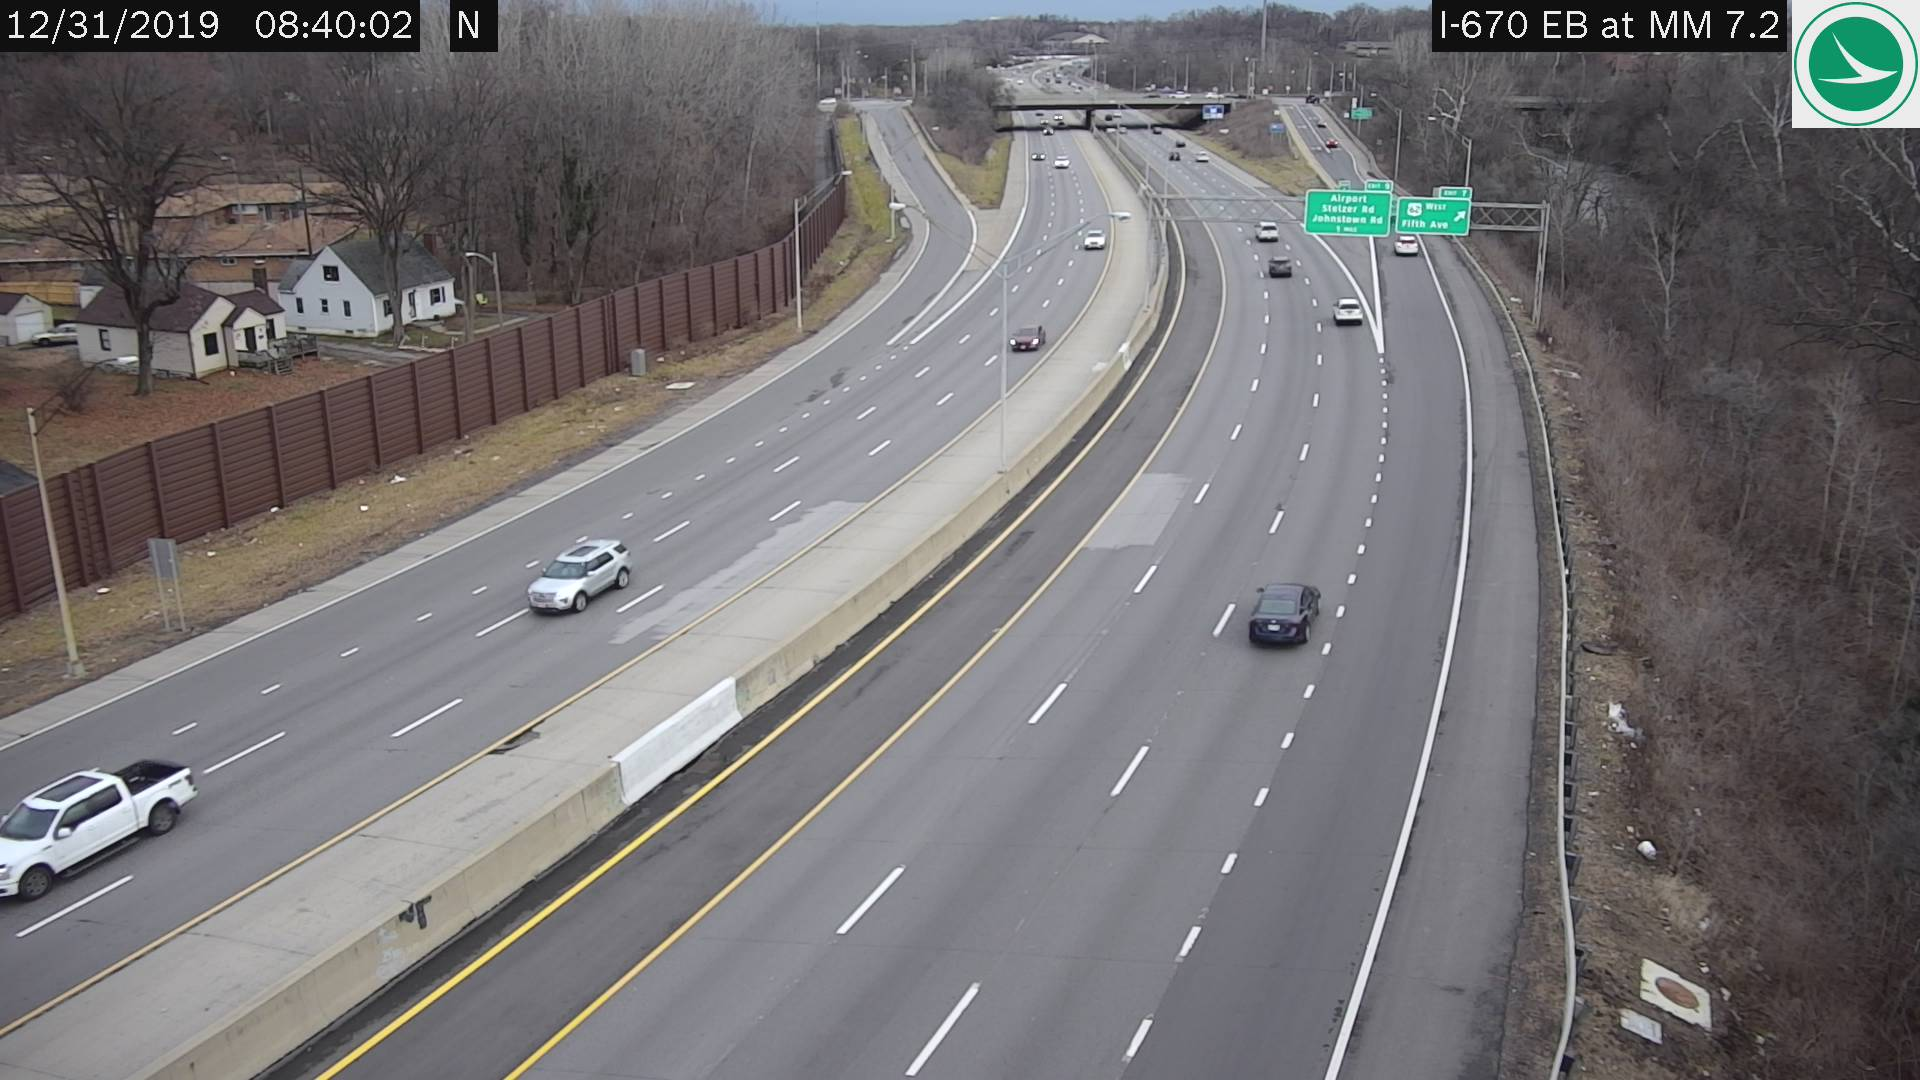car: (3, 756, 198, 909), (530, 535, 630, 608), (1250, 580, 1317, 647), (1010, 324, 1042, 348), (1335, 295, 1358, 324), (1266, 252, 1290, 276), (1394, 232, 1418, 256), (1254, 220, 1274, 244), (1087, 228, 1106, 248)
